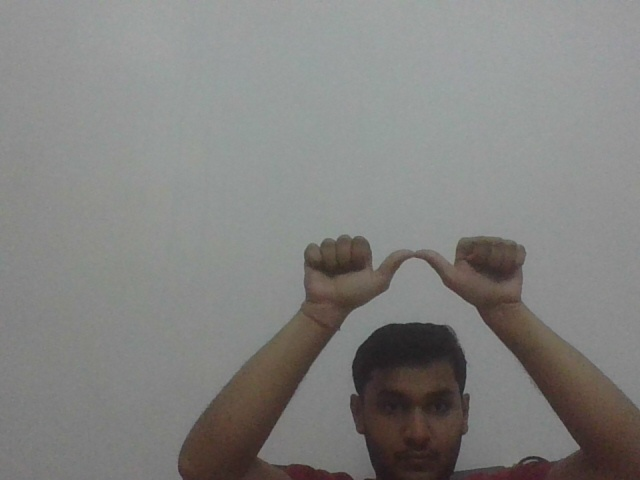A: (299, 233, 530, 302)
